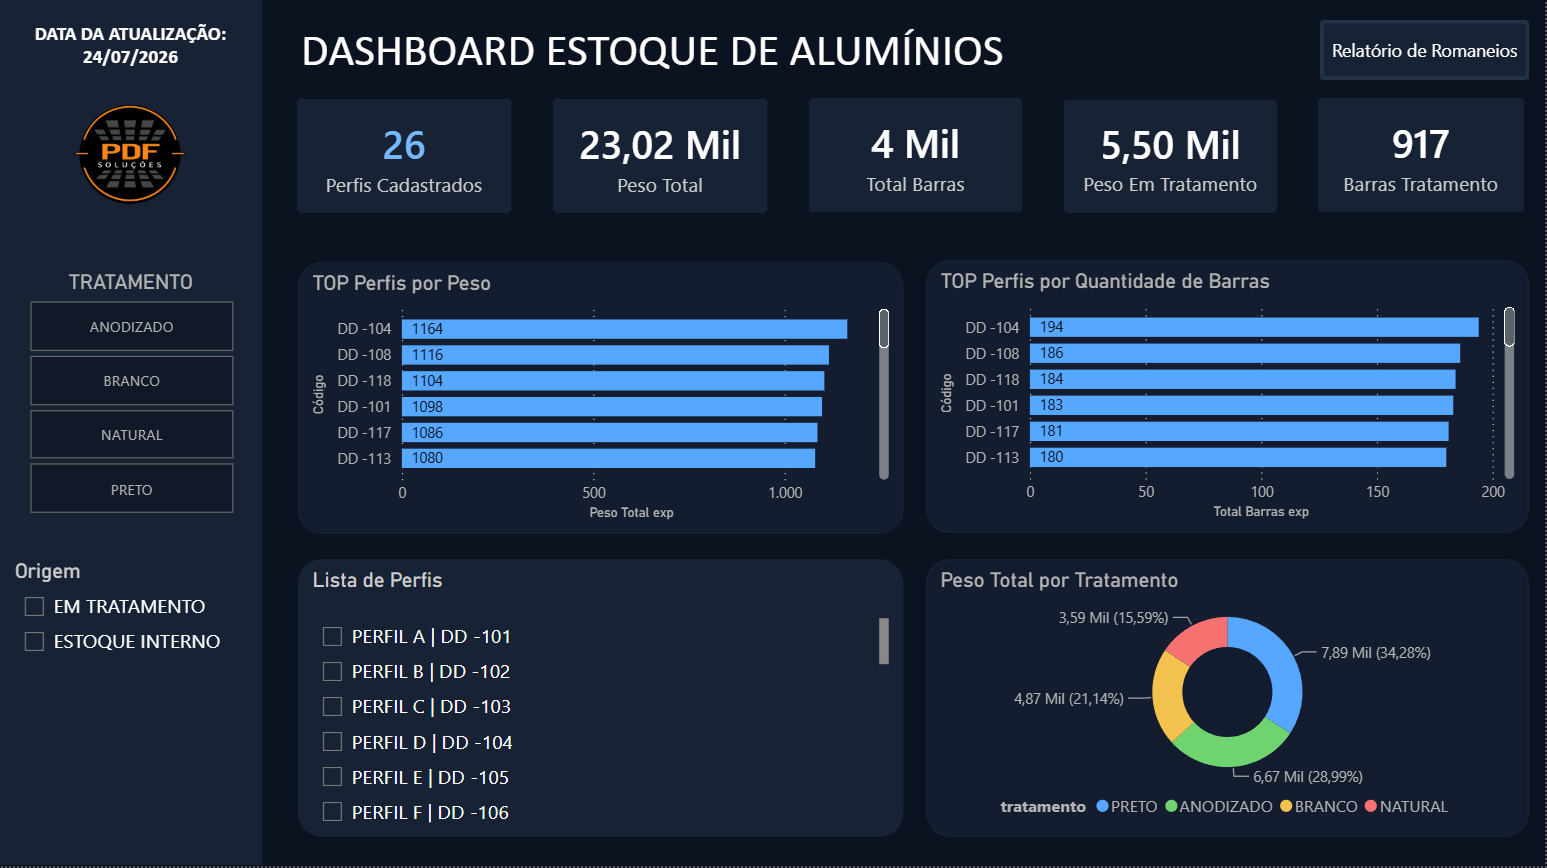

The page's visual inventory and layout, read from the dashboard file:
{"tool":"powerbi","page":{"name":"DASH-SEM-DADOS-SENSIVEIS","canvas":[1280,720],"ordinal":0},"visuals":[{"type":"cardVisual","fields":{"Data":["Planilha1.Peso Total exp"]},"box":[441,67.6,212.5,129.1],"z":0},{"type":"shape","box":[0,0,218.2,719.2],"z":1000},{"type":"cardVisual","fields":{"Data":["Planilha1.Total Barras exp"]},"box":[652.8,66.7,211.6,129.1],"z":2000},{"type":"cardVisual","fields":{"Data":["Planilha1.Peso Total exp"]},"box":[863.8,68.5,211.6,128.2],"z":3000},{"type":"cardVisual","fields":{"Data":["Planilha1.Total Barras exp"]},"box":[1074.5,66.7,205.5,129.1],"z":4000},{"type":"slicer","title":"TRATAMENTO","fields":{"Values":["Planilha1.tratamento"]},"box":[0,227,217.8,208.1],"z":5000},{"type":"donutChart","title":"Peso Total por Tratamento","fields":{"Category":["Planilha1.tratamento"],"Y":["Sum(Planilha1.Peso total)"]},"box":[767.4,466.1,498.9,230.4],"z":6000},{"type":"slicer","title":"Origem","fields":{"Values":["Planilha1.Origem"]},"box":[7.9,466.2,201.1,102.7],"z":7000},{"type":"barChart","title":"TOP  Perfis por Peso","fields":{"Category":["Planilha1.Código"],"Y":["Planilha1.Peso Total exp"]},"box":[247.3,219.9,501,225.1],"z":8000},{"type":"image","box":[32.5,69.4,151.9,126.4],"z":9000},{"type":"slicer","title":"Lista de Perfis","fields":{"Values":["Planilha1.NOME EXIBIÇÃO"]},"box":[247.3,466.1,501,230.4],"z":10000},{"type":"barChart","title":"TOP  Perfis por Quantidade de Barras","fields":{"Category":["Planilha1.Código"],"Y":["Planilha1.Total Barras exp"]},"box":[767.4,218.8,498.9,226.2],"z":11000},{"type":"cardVisual","fields":{"Data":["Planilha1.Total Perfis Cadastrados exp"]},"box":[229.2,67.6,212.5,129.1],"z":12000},{"type":"textbox","box":[245,15.8,619,57.1],"z":13000},{"type":"actionButton","box":[1092.9,20.1,173.3,49.7],"z":14000},{"type":"textbox","box":[14.9,16.7,187.9,91.3],"z":15000}]}

Visuals, with their boxes in screenshot pixels (x1, y1, x2, y2), scaled from the page's 1280x720 canvas onto the 1547x868 screenshot:
cardVisual - Planilha1.Peso Total exp: {"x1": 533, "y1": 81, "x2": 790, "y2": 237}
shape: {"x1": 0, "y1": 0, "x2": 264, "y2": 867}
cardVisual - Planilha1.Total Barras exp: {"x1": 789, "y1": 80, "x2": 1045, "y2": 236}
cardVisual - Planilha1.Peso Total exp: {"x1": 1044, "y1": 83, "x2": 1300, "y2": 237}
cardVisual - Planilha1.Total Barras exp: {"x1": 1299, "y1": 80, "x2": 1546, "y2": 236}
"TRATAMENTO" slicer: {"x1": 0, "y1": 274, "x2": 263, "y2": 525}
"Peso Total por Tratamento" donutChart: {"x1": 927, "y1": 562, "x2": 1530, "y2": 840}
"Origem" slicer: {"x1": 10, "y1": 562, "x2": 253, "y2": 686}
"TOP  Perfis por Peso" barChart: {"x1": 299, "y1": 265, "x2": 904, "y2": 536}
image: {"x1": 39, "y1": 84, "x2": 223, "y2": 236}
"Lista de Perfis" slicer: {"x1": 299, "y1": 562, "x2": 904, "y2": 840}
"TOP  Perfis por Quantidade de Barras" barChart: {"x1": 927, "y1": 264, "x2": 1530, "y2": 536}
cardVisual - Planilha1.Total Perfis Cadastrados exp: {"x1": 277, "y1": 81, "x2": 534, "y2": 237}
textbox: {"x1": 296, "y1": 19, "x2": 1044, "y2": 88}
actionButton: {"x1": 1321, "y1": 24, "x2": 1530, "y2": 84}
textbox: {"x1": 18, "y1": 20, "x2": 245, "y2": 130}
